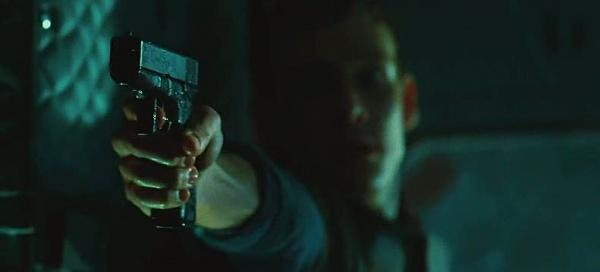Gun: (110, 37, 203, 133)
